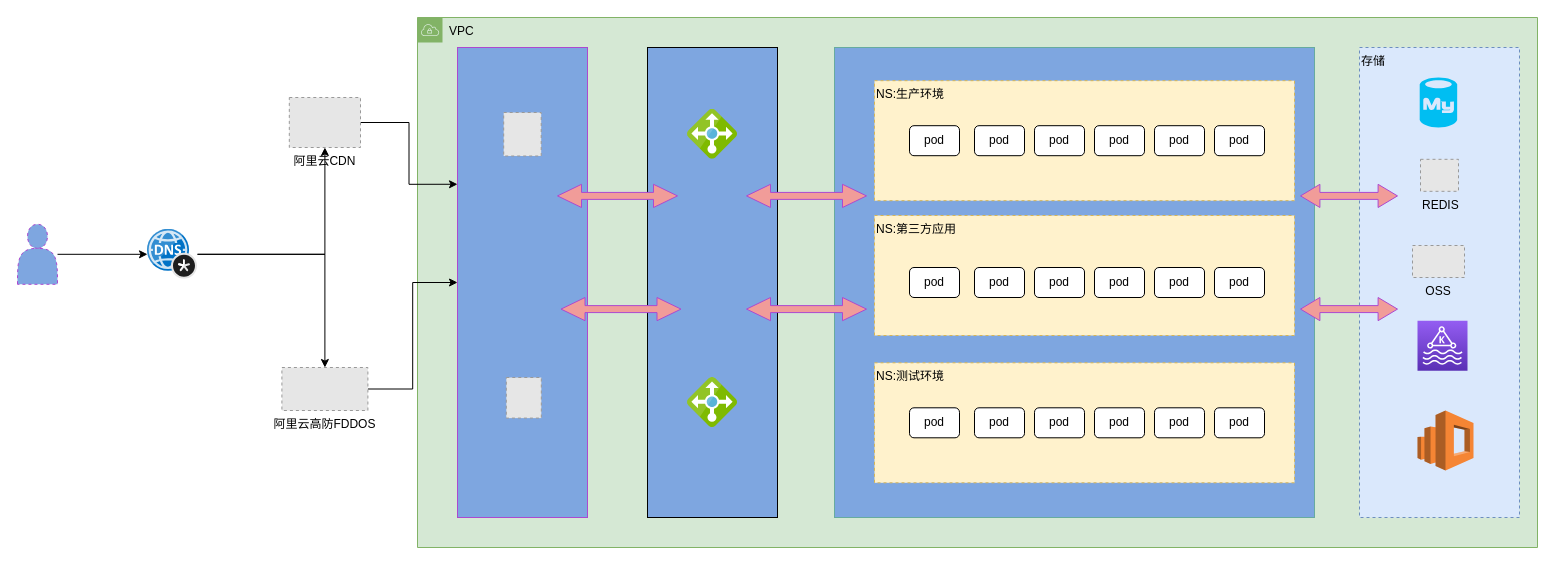
Some shapes in this 1555 by 565 pixel diagram are drawn without their labels. Grey dashed boxes stand in for pictures. Each missing label, with the box of its shape:
ELK: (1416, 410, 1474, 470)
GW: (646, 46, 778, 518)
K8S: (834, 46, 1314, 518)
KAFKA: (1416, 320, 1468, 371)
MYSQL: (1419, 77, 1457, 127)
SLB: (456, 46, 588, 518)
用户: (16, 223, 58, 284)
